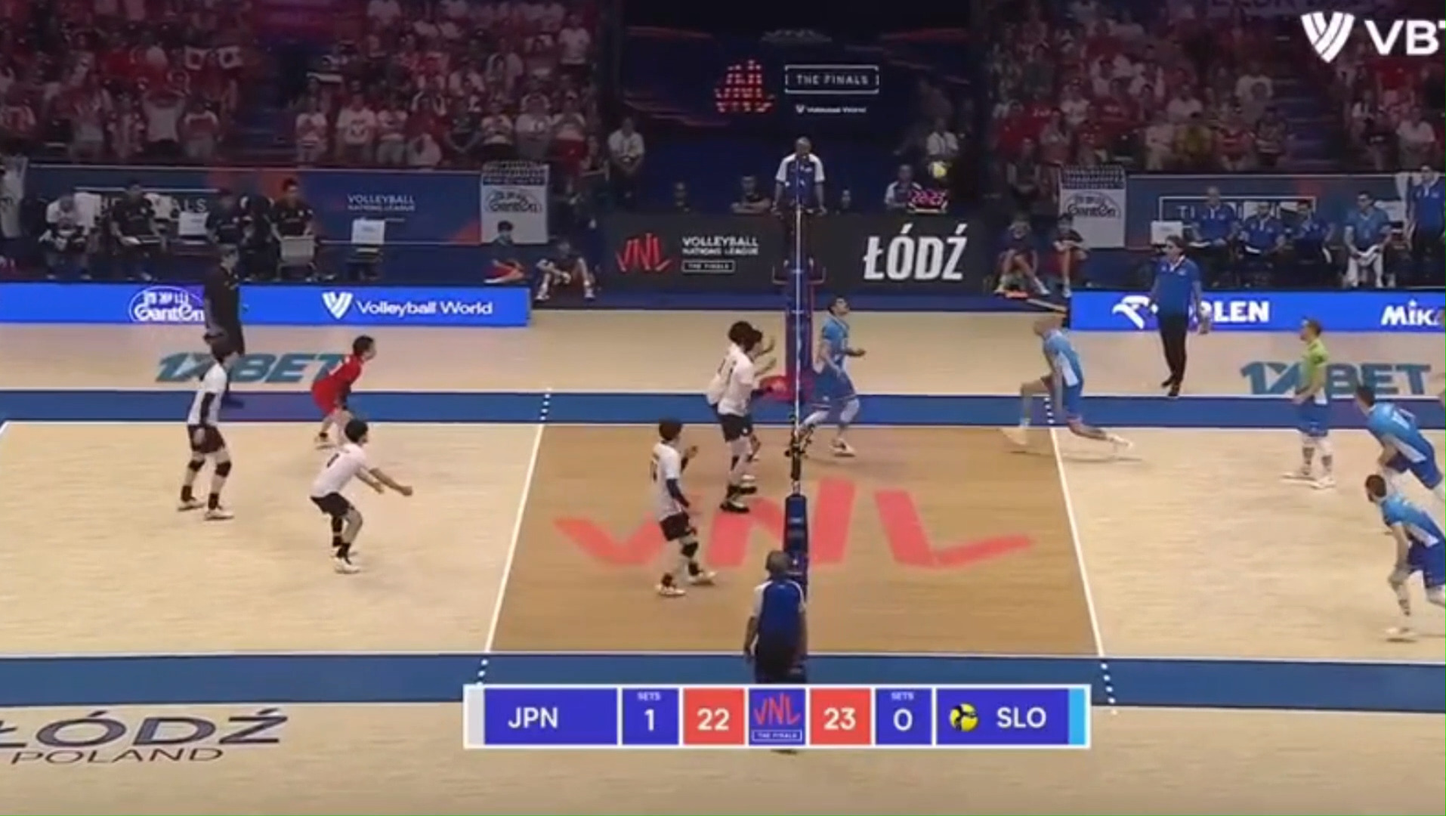ball: (928, 161, 948, 178)
player: (1010, 316, 1129, 453), (1363, 474, 1445, 641), (798, 298, 866, 457), (1355, 385, 1445, 504), (1287, 319, 1334, 488)
player 1: (308, 417, 412, 573), (650, 419, 712, 596), (178, 340, 236, 520), (717, 329, 763, 511), (312, 335, 375, 447), (706, 321, 753, 408)
referee: (1149, 235, 1209, 397), (743, 550, 806, 684), (773, 138, 825, 286), (203, 248, 246, 356)
